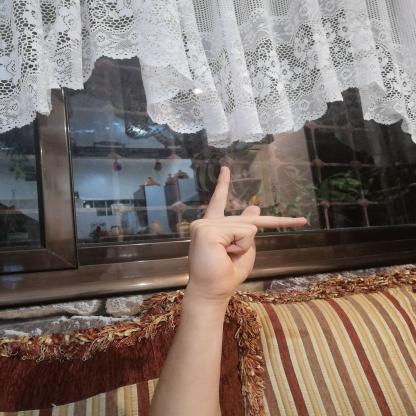DHAA: (174, 158, 315, 301)
